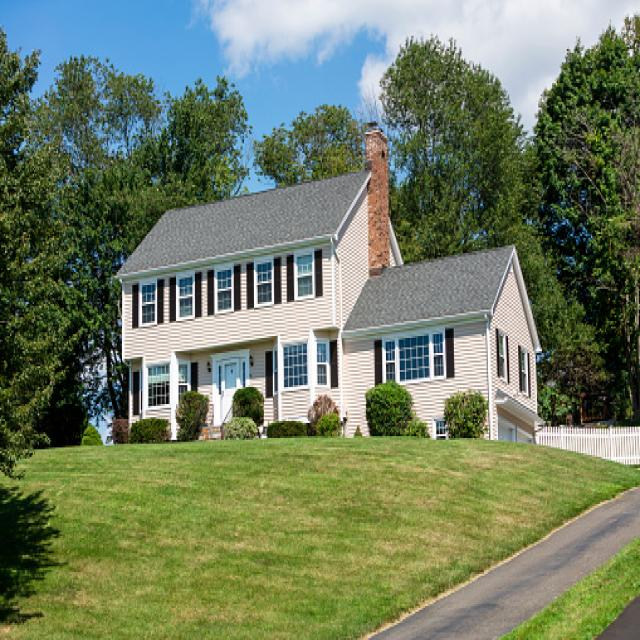building: (107, 158, 409, 442), (338, 243, 543, 450)
